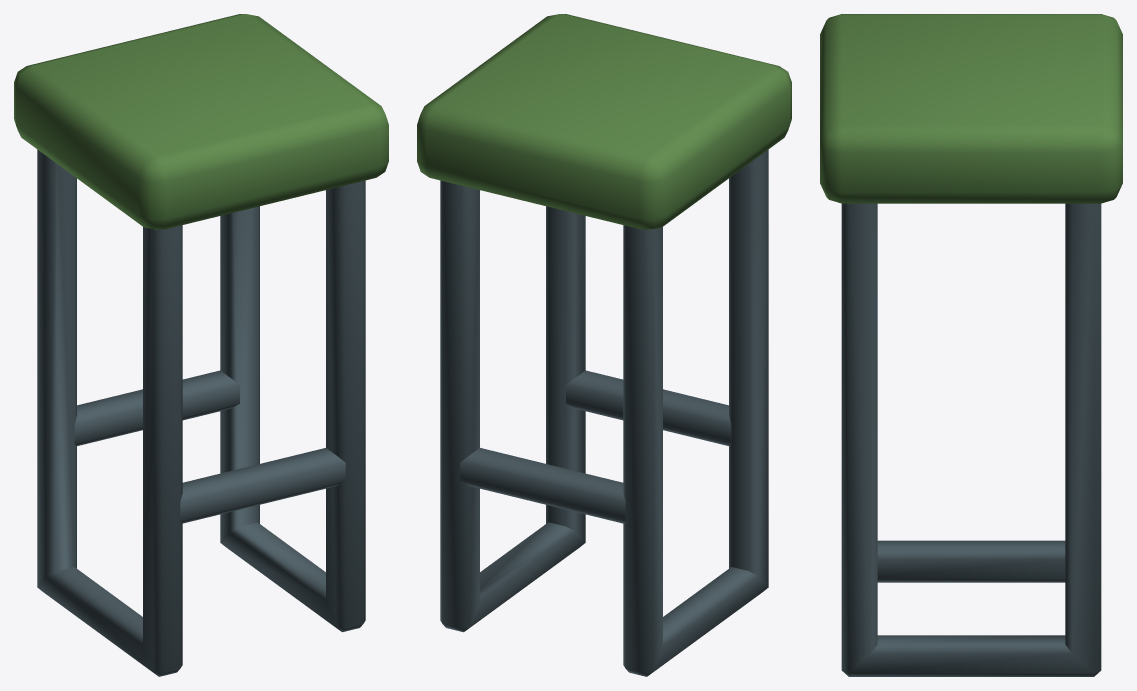
Rendered from Chair_05.glb.
3 views of the same model, side by side, from view 1: azimuth 30°, elevation 25°; view 2: azimuth 150°, elevation 25°; view 3: azimuth 270°, elevation 25° (orthographic). The views are drawn at different scales.
Visible parts, largest first — view 1: Chair_05; view 2: Chair_05; view 3: Chair_05.
Boxes of the visible parts, x1,y1,x2,y2 form: Chair_05: (14, 14, 388, 676); Chair_05: (417, 14, 791, 676); Chair_05: (820, 14, 1122, 676).
Bounding box in the file's own units: 0.42 × 0.85 × 0.42.
1 material, 1 textured.
